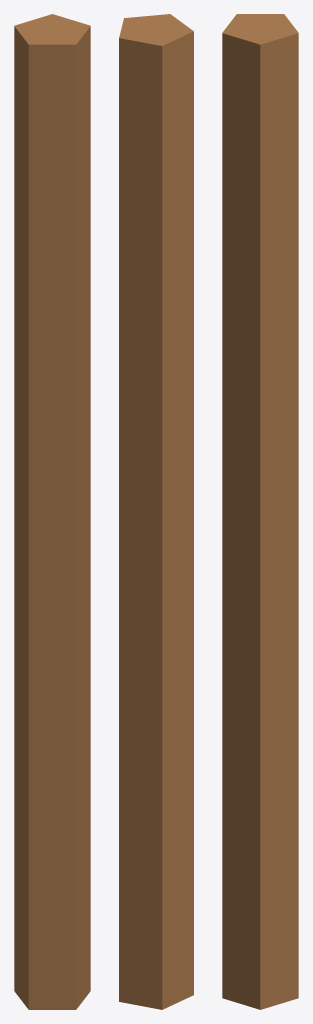
The model's file is axe.fbx.
3 renders of one model, left to right at view 1: azimuth 90°, elevation 25°; view 2: azimuth 210°, elevation 25°; view 3: azimuth 270°, elevation 25°, orthographic.
Visible parts, largest first — view 1: pCylinder1; view 2: pCylinder1; view 3: pCylinder1.
Boxes of the visible parts, x1,y1,x2,y2 form: pCylinder1: [14, 14, 90, 1009]; pCylinder1: [119, 14, 193, 1009]; pCylinder1: [222, 14, 298, 1009].
Bounding box in the file's own units: 0.4247 × 6.21 × 0.4466.
